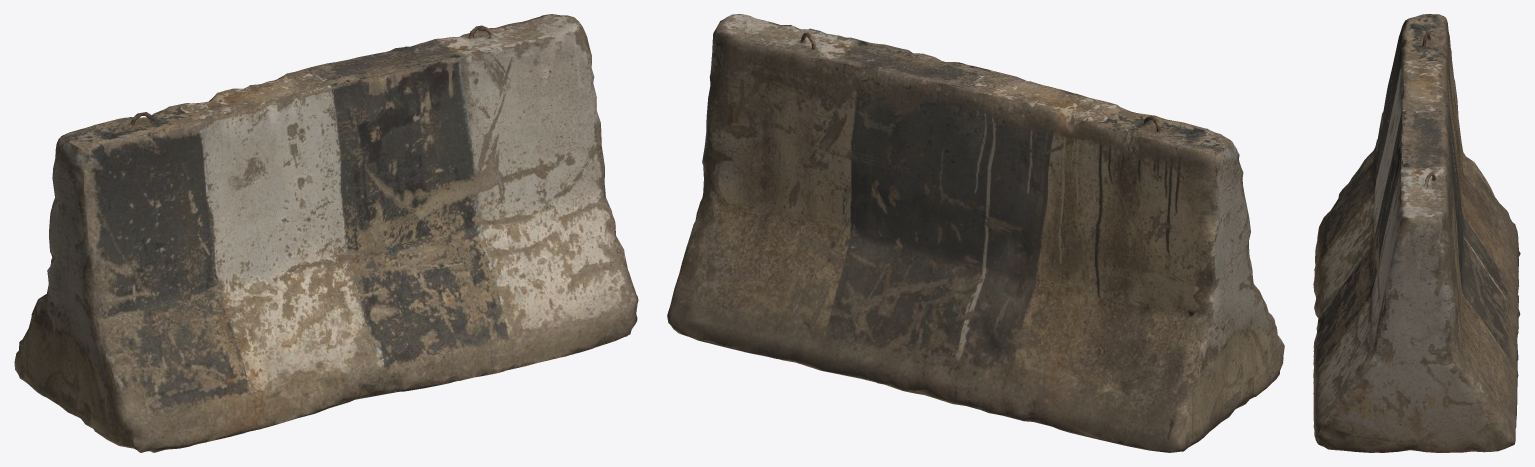
Rendered from jersey_barrier.glb.
The picture shows the model from 3 angles, left to right: view 1: azimuth 30°, elevation 25°; view 2: azimuth 150°, elevation 25°; view 3: azimuth 270°, elevation 25°; orthographic projection. The views are drawn at different scales.
Parts seen in each view (by area): view 1: jersey_barrier; view 2: jersey_barrier; view 3: jersey_barrier.
Part boxes in pixels (bbox=[...]): jersey_barrier: bbox=[14, 14, 638, 452]; jersey_barrier: bbox=[667, 14, 1284, 452]; jersey_barrier: bbox=[1313, 14, 1520, 452].
Size of the model in its own units: 1.54 by 0.8322 by 0.6371.
1 material, 1 textured.
